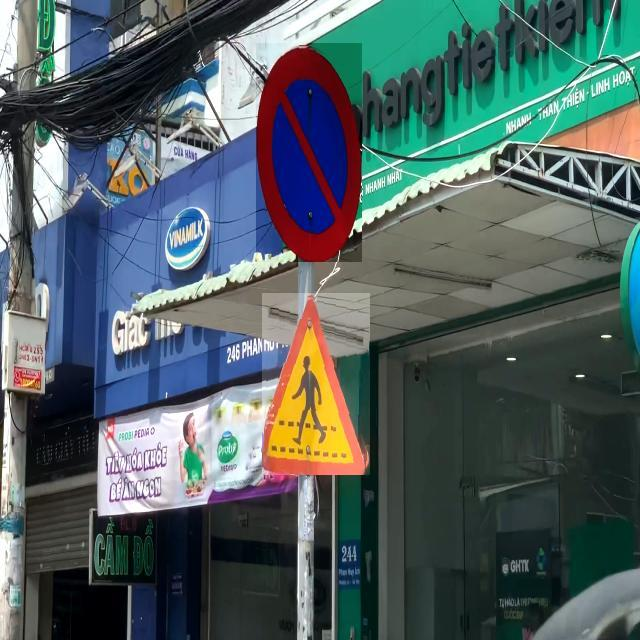P-131a: (256, 43, 362, 262)
W-224: (262, 293, 370, 475)
